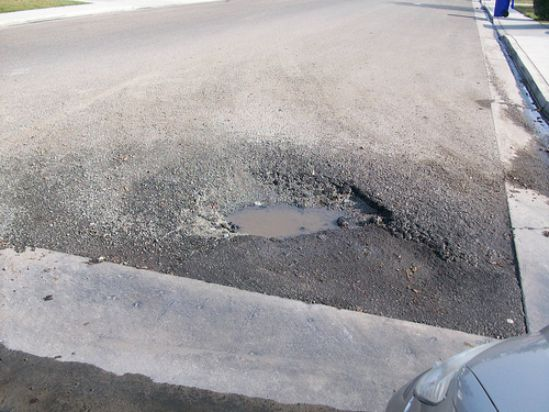pothole: (160, 162, 401, 242)
